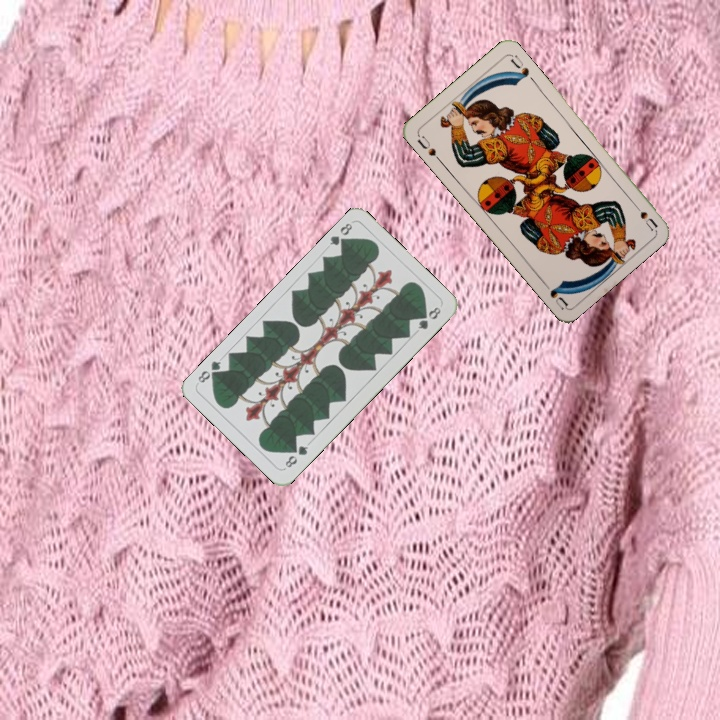G8: (325, 219, 355, 250), (281, 441, 311, 470)
SU: (628, 197, 660, 233), (413, 131, 444, 165)
